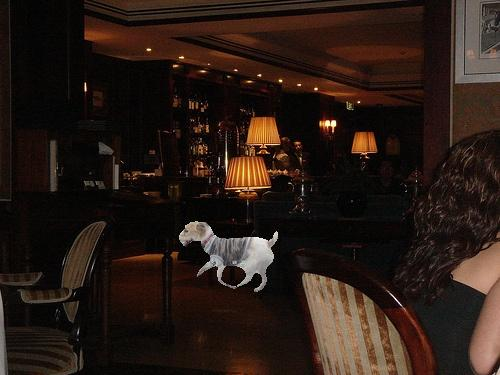tampered: (180, 222, 278, 292)
